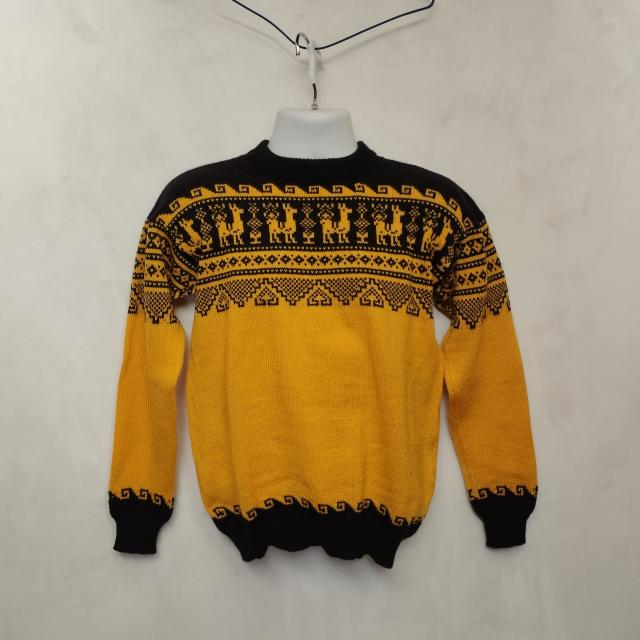Chompa: (107, 107, 539, 569)
